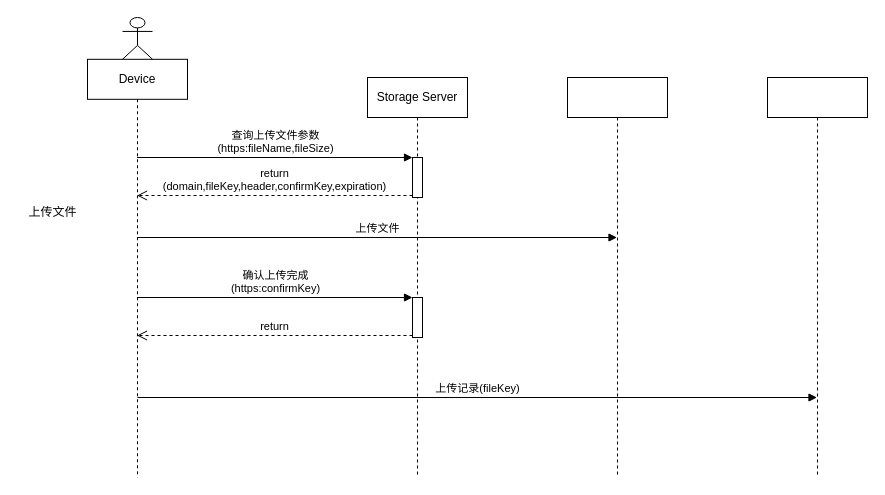
Some shapes in this 885 by 495 pixel diagram are drawn without their labels. Here are the shapes that lost their labels. From the top down, the box of each, then its label:
(566, 76, 668, 478): S3
(766, 76, 868, 478): Map Server
